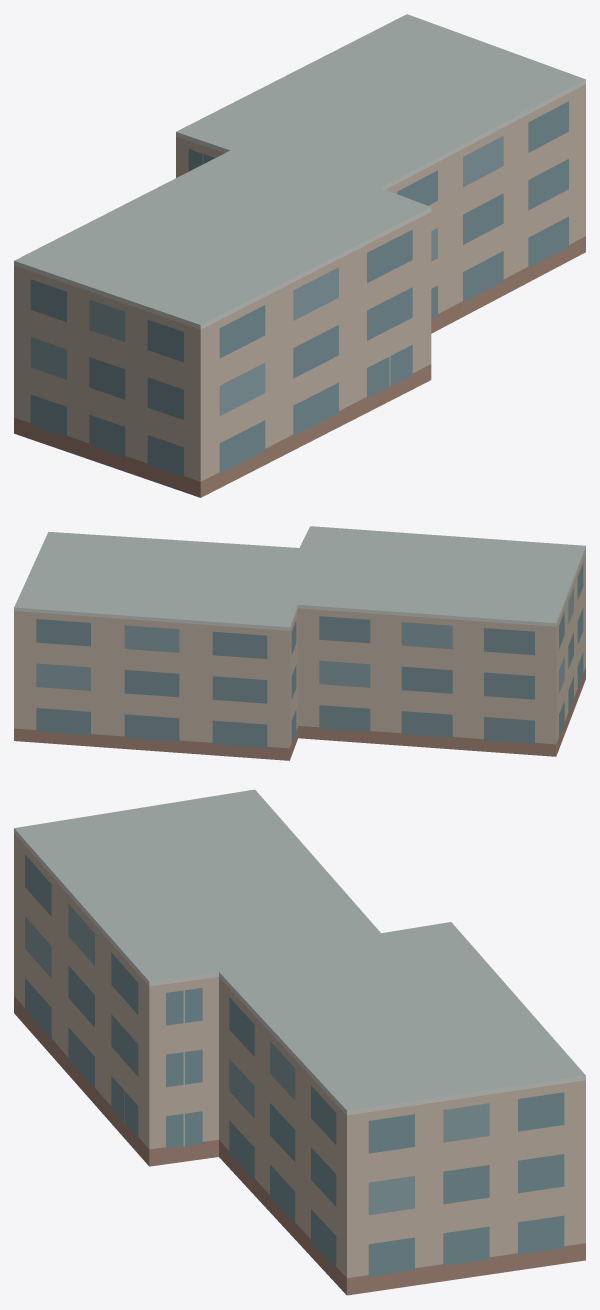
Rendered from survey-upis-32614114.glb.
3 views of the same model, one above another, from view 1: azimuth 30°, elevation 25°; view 2: azimuth 150°, elevation 25°; view 3: azimuth 270°, elevation 25° (orthographic). The views are drawn at different scales.
Parts seen in each view (by area): view 1: survey-upis-32614114.tmp; view 2: survey-upis-32614114.tmp; view 3: survey-upis-32614114.tmp.
Boxes of the visible parts, box(x1,y1,x2,y2) form: survey-upis-32614114.tmp: box(14, 14, 585, 497); survey-upis-32614114.tmp: box(14, 526, 585, 760); survey-upis-32614114.tmp: box(14, 789, 585, 1295).
Bounding box in the file's own units: 34.07 × 9.15 × 25.64.
